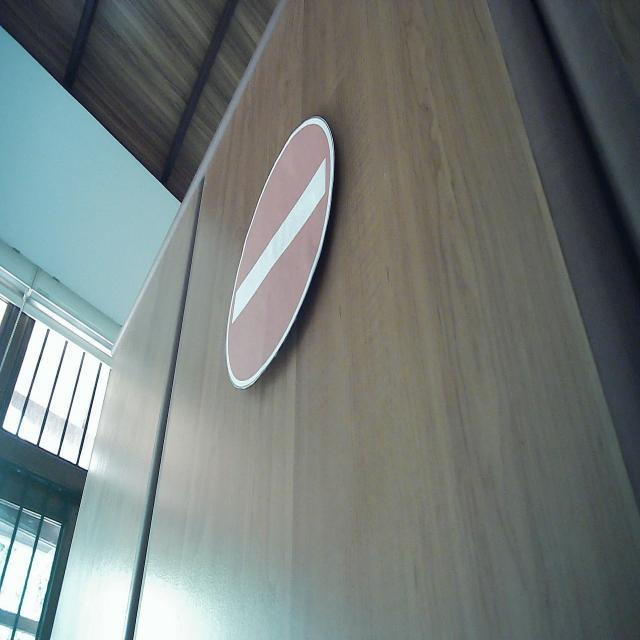no_entry: (224, 114, 338, 392)
